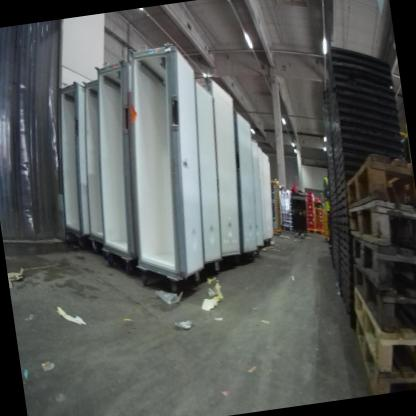pallet: (351, 277, 416, 387), (349, 251, 416, 347), (349, 217, 416, 310), (340, 149, 416, 226), (347, 194, 416, 268), (352, 317, 416, 395), (273, 219, 293, 235)
pallet_truck: (285, 173, 318, 248)
